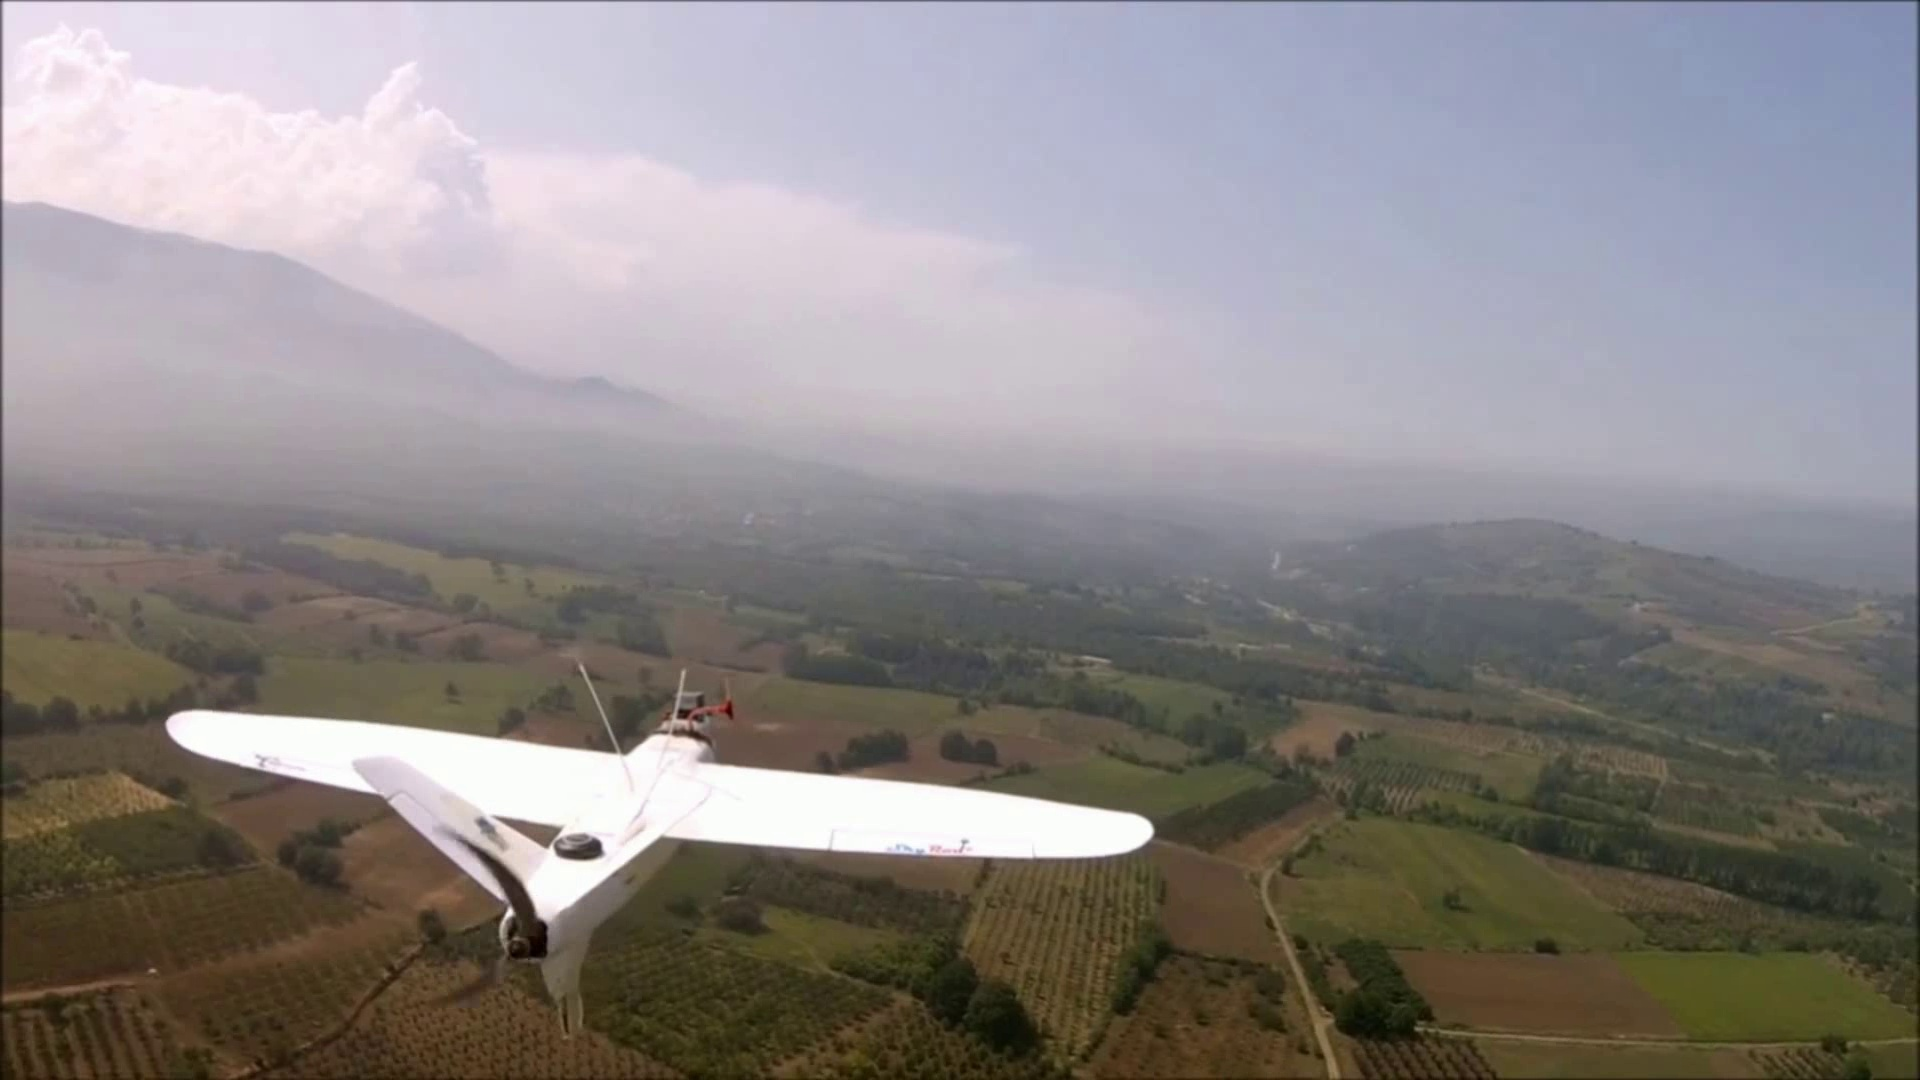airplane: (167, 678, 1160, 1040)
